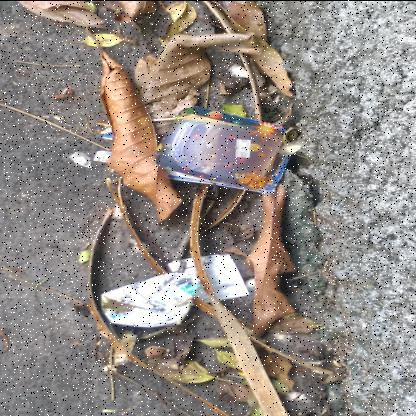cardboard: (155, 106, 292, 192)
other: (98, 272, 204, 328)
